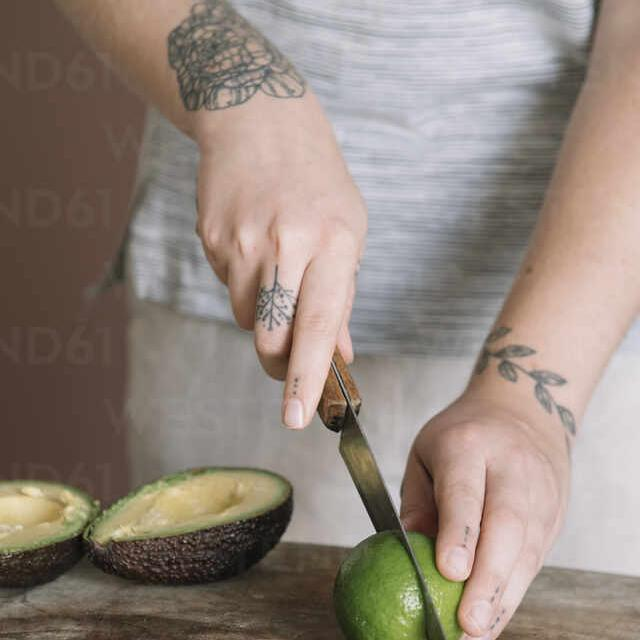lime: (317, 513, 510, 640)
